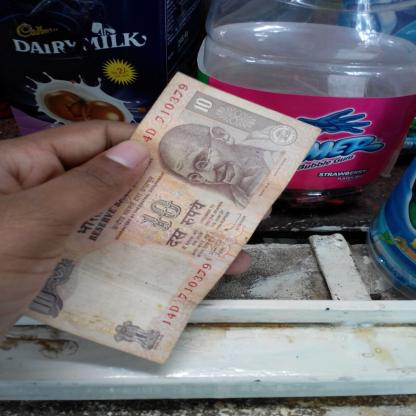Old10Front: (20, 72, 322, 365)
